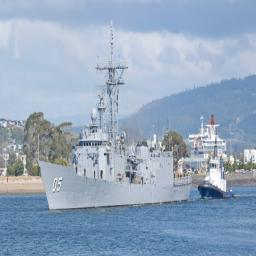Fragata: (37, 20, 195, 217)
